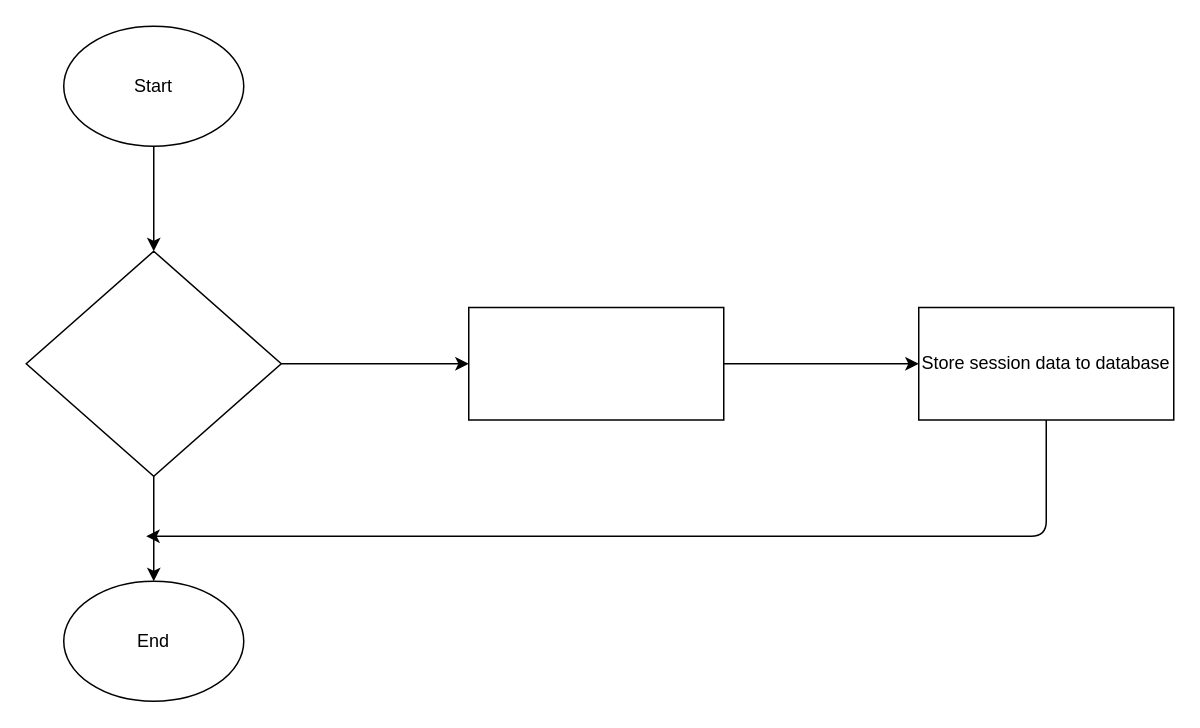
Some shapes in this 1200 by 728 pixel diagram are drawn without their labels. The shapes that lost their labels are listed below. From the top down, each one's box as (x1, y1, x2, y2) in pixels, then its label:
(25, 250, 281, 476): Has cookie?
(467, 306, 724, 420): Set cookie with sessionId
